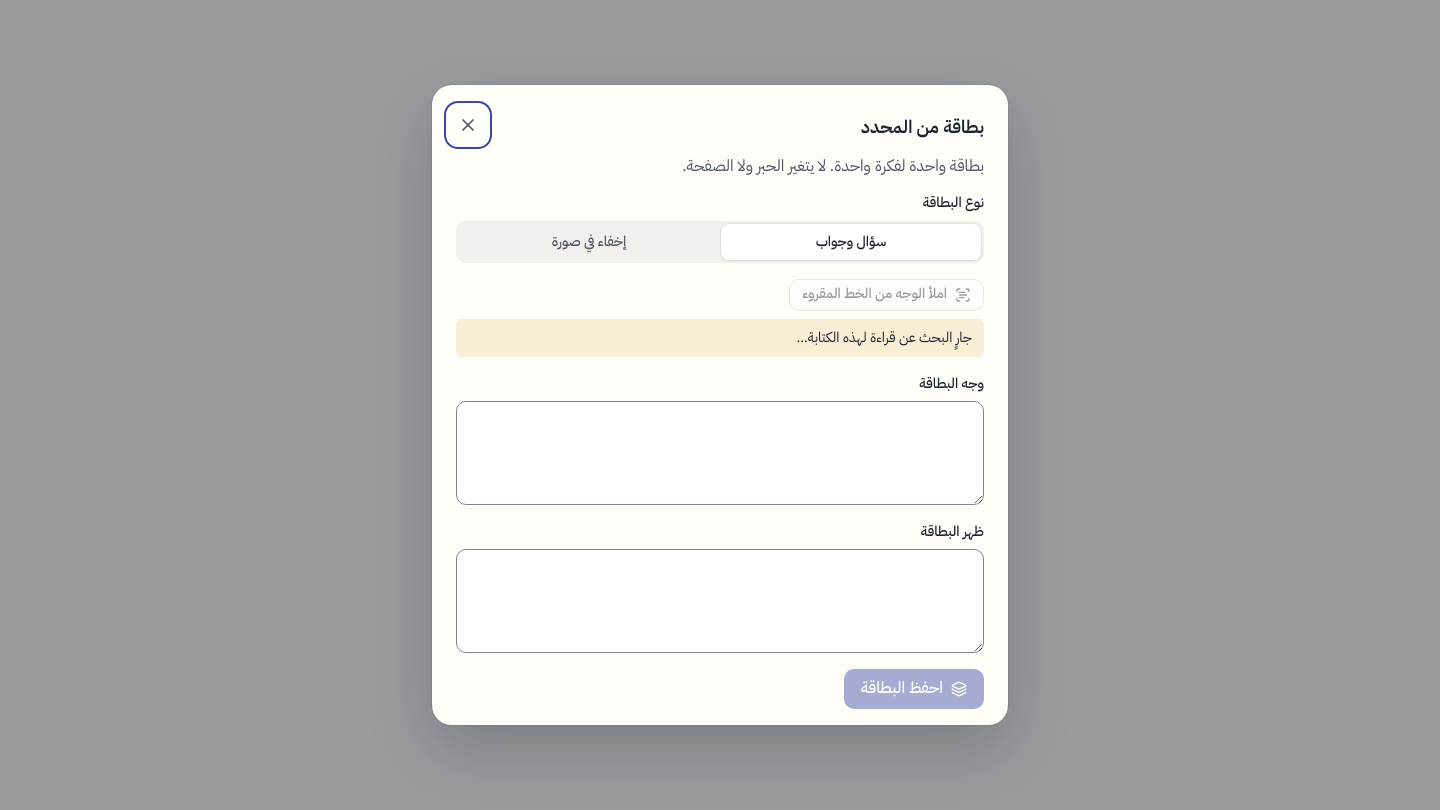
H3 item 4 — a card from the lasso selection › «إخفاء في صورة»: the server cuts the page area under the selection; named masks become occlusion cards
Click the radio button labelled "إخفاء في صورة".
click(589, 242)  # box [459,224,719,260]
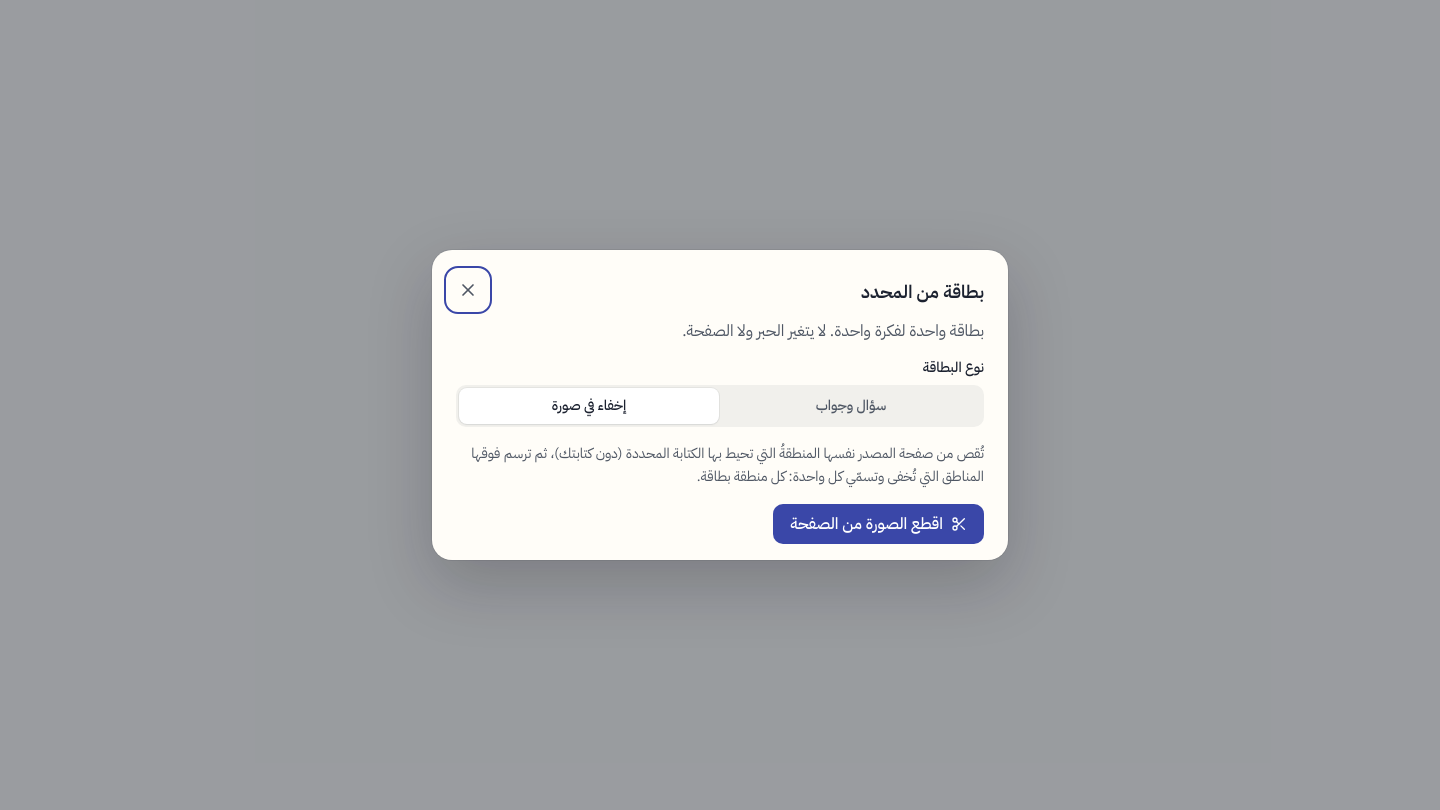
Click the button "اقطع الصورة من الصفحة".
click(879, 524)  # box [773,504,984,544]
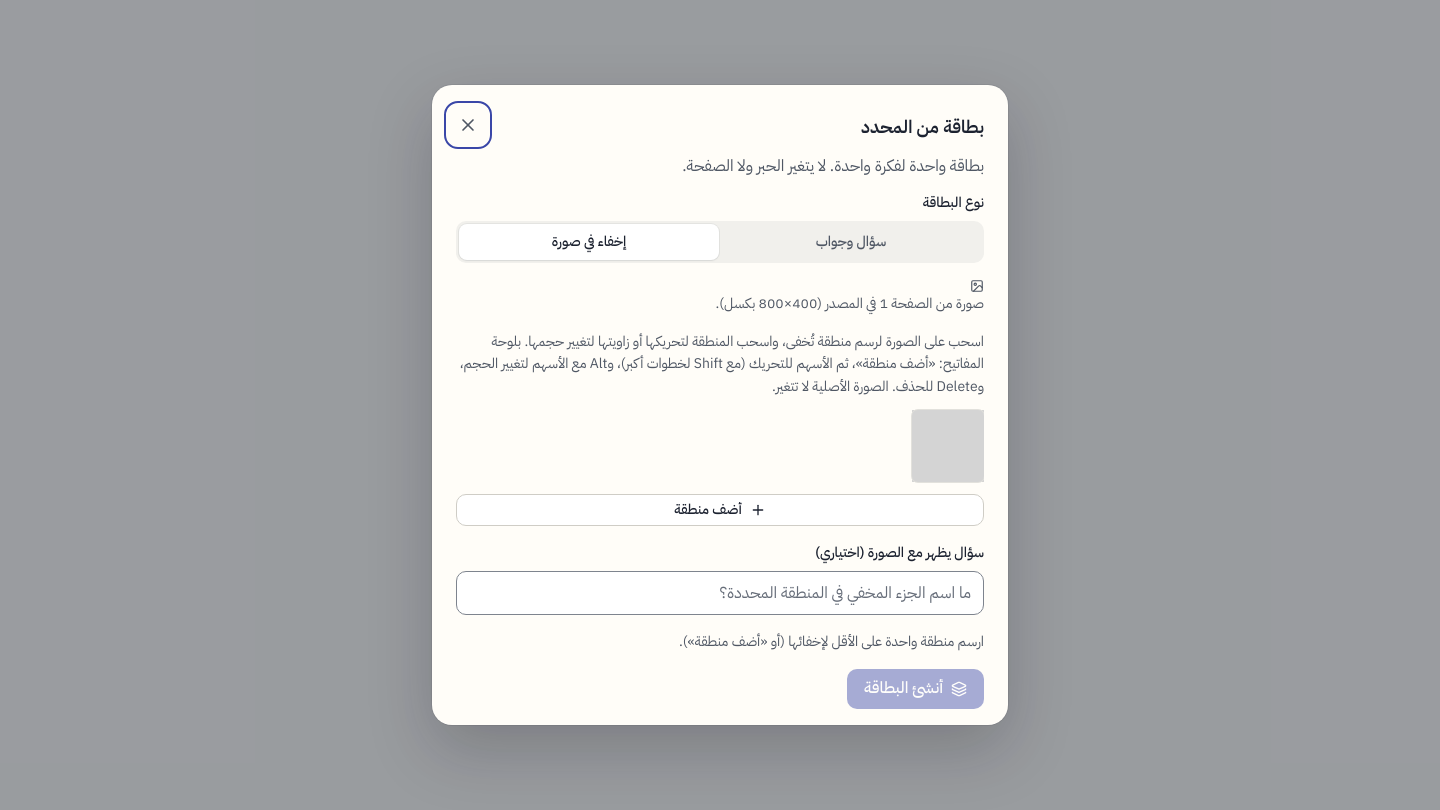
expect the text "صورة من الصفحة 1 في المصدر (800×400 بكسل)." is shown: met, box [716,279,984,314]
expect the button "أنشئ البطاقة" is disabled: met, box [847,669,984,709]
Click the button "أضف منطقة".
click(720, 510)  # box [456,494,984,526]
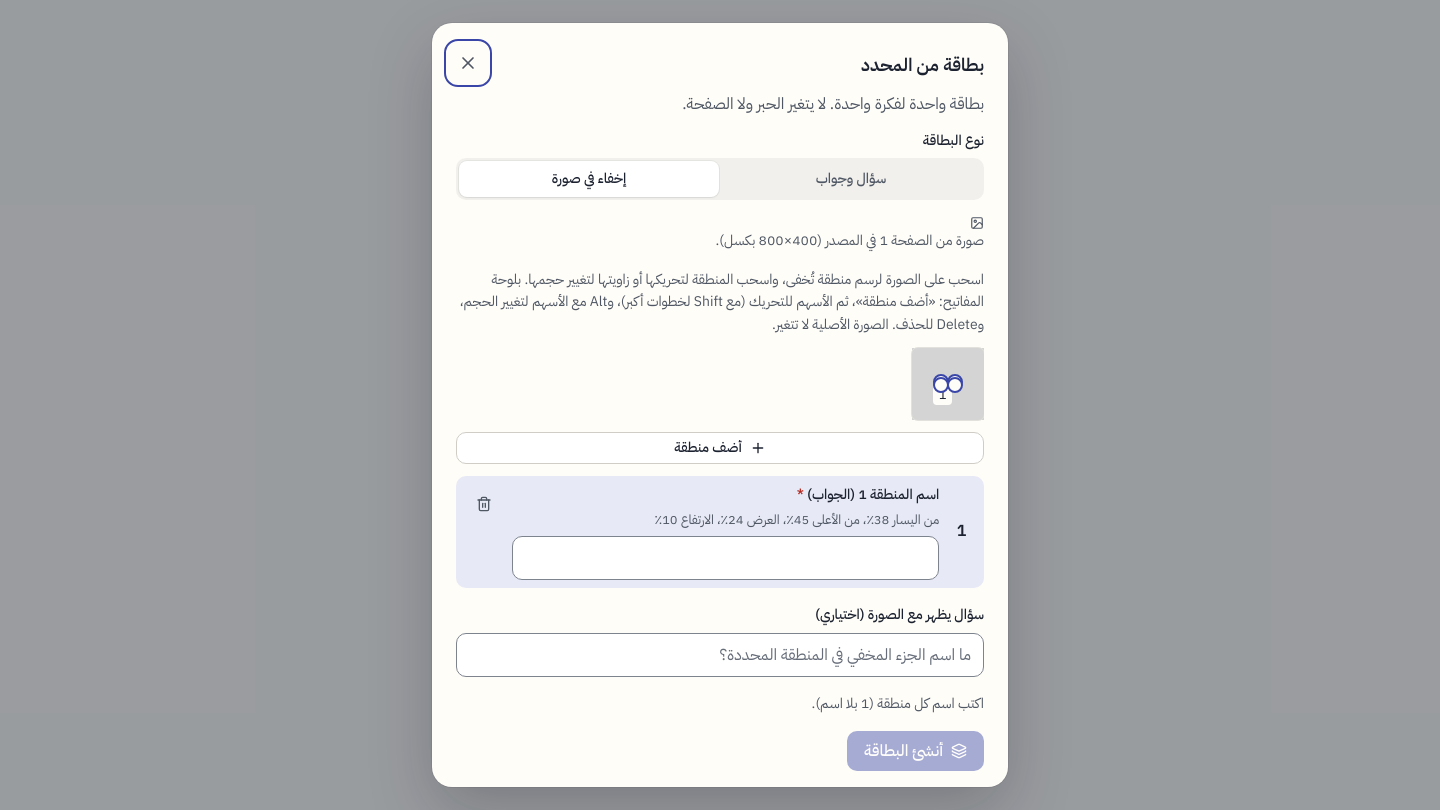
Type "الزائدة" into the field labelled "اسم المنطقة 1 (الجواب) *".
click(726, 558); type("الزائدة")  # box [512,536,939,580]
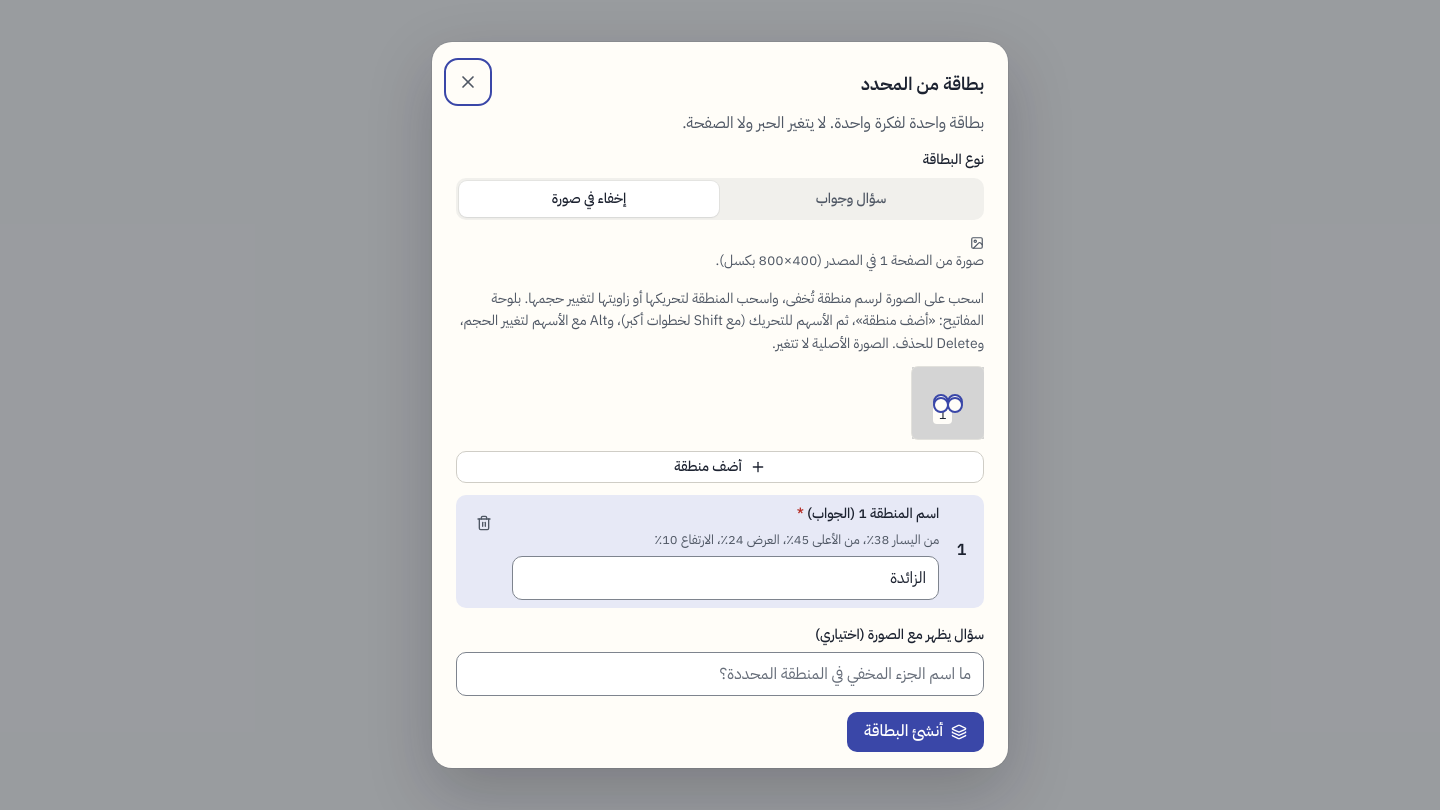
Click the button "أنشئ البطاقة".
click(916, 732)  # box [847,712,984,752]
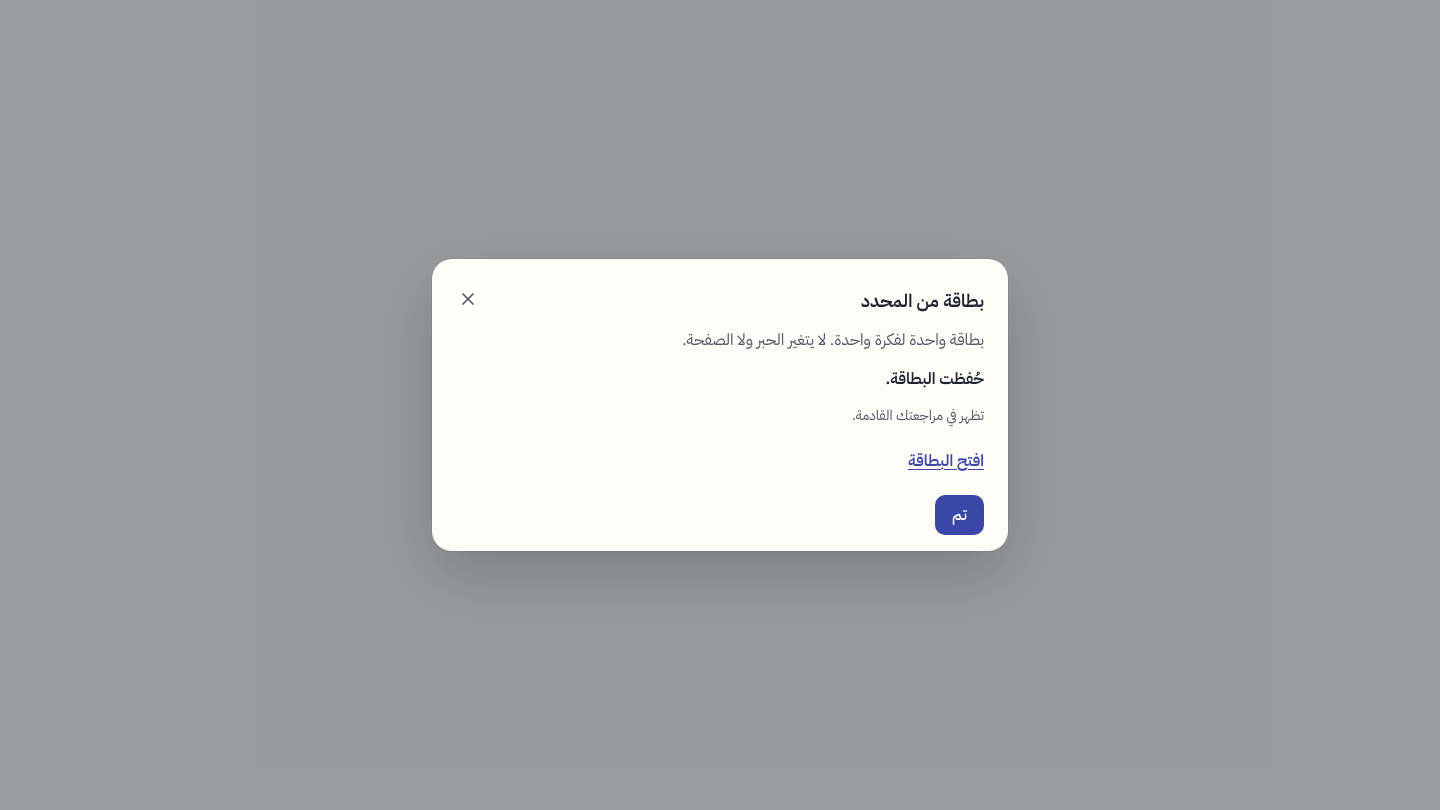
expect the text "حُفظت البطاقة." is shown: met, box [885,367,984,391]
